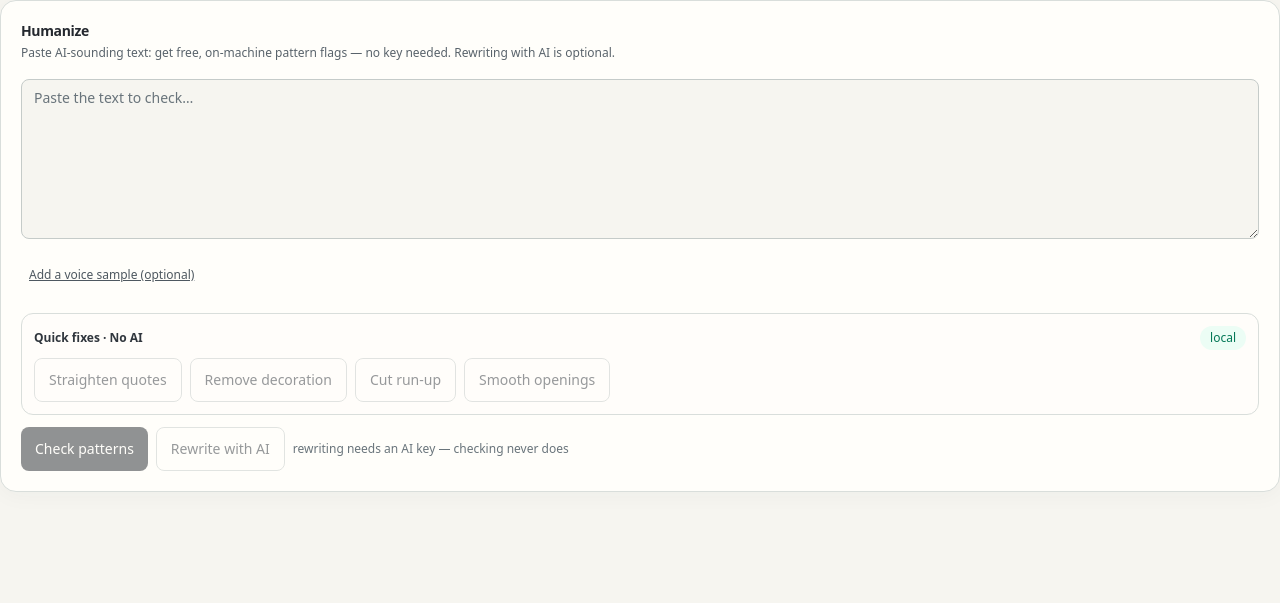
Scenario: HumanizerPanel › labels every editor for screen readers and keeps toggles touch-sized
Check: the text box labelled "Paste the text to check…" is shown, box [21,78,1259,238]
Click the button "Add a voice sample (optional)" at coordinates (112, 274), box [21,252,202,296]
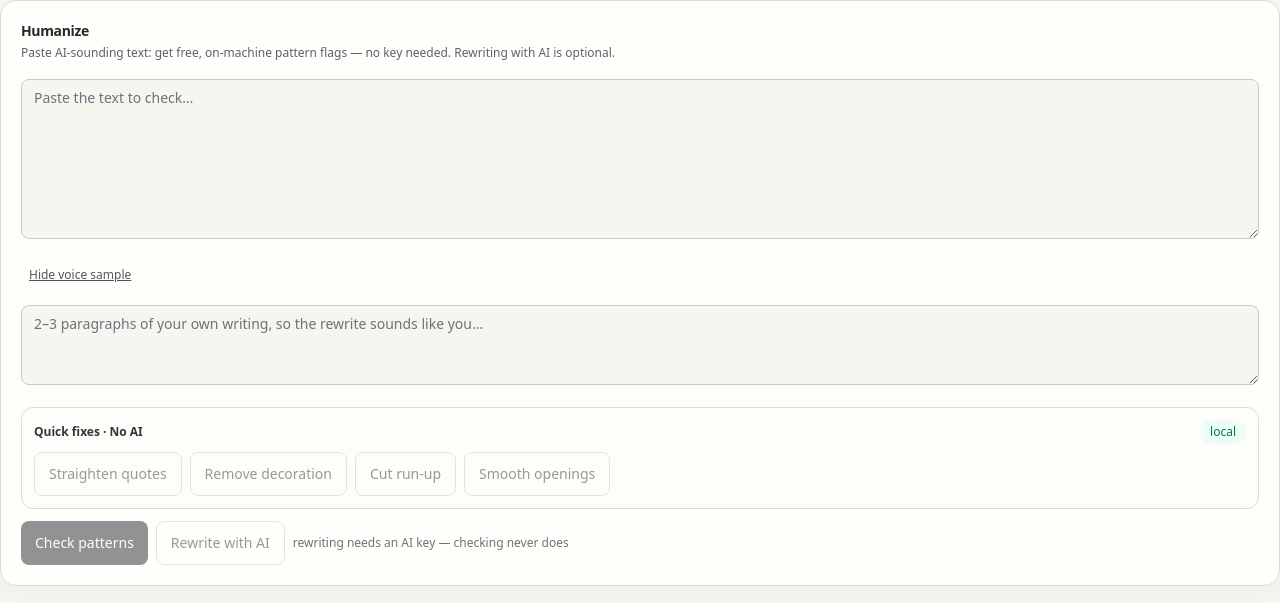
Check: the text box named "voice sample" is shown, box [21,304,1259,384]
